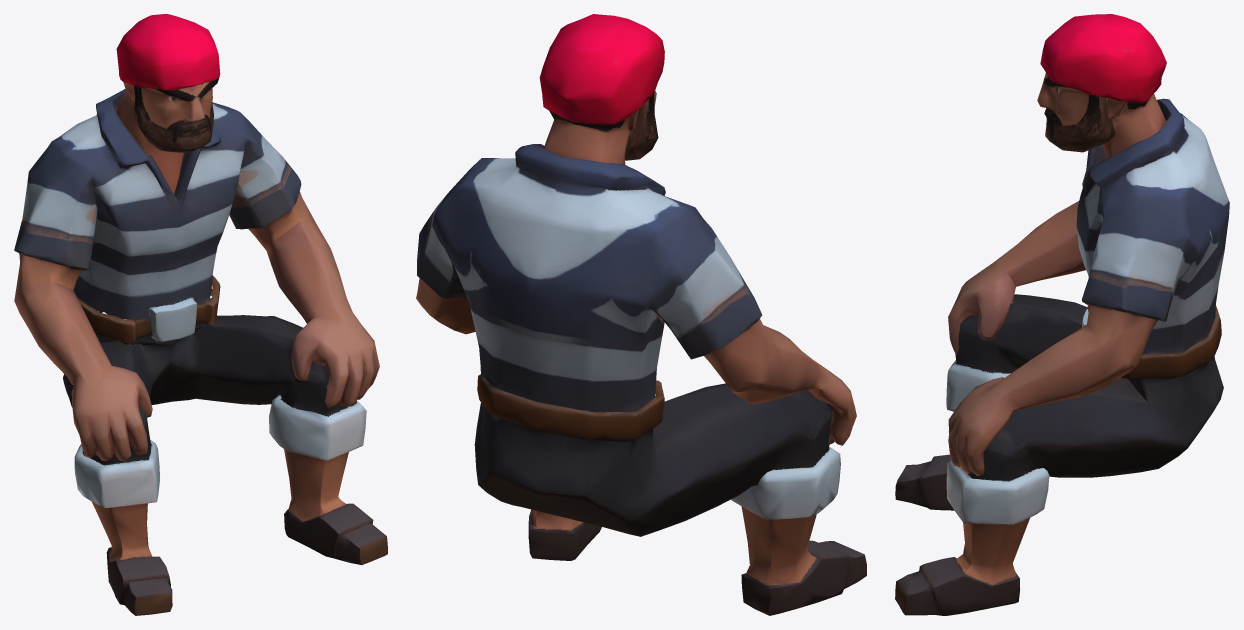
File: grumete_sentado.glb
3 renders of one model, left to right at view 1: azimuth 30°, elevation 25°; view 2: azimuth 150°, elevation 25°; view 3: azimuth 270°, elevation 25°, orthographic. The views are drawn at different scales.
Visible parts, largest first — view 1: world; view 2: world; view 3: world.
Boxes of the visible parts, x1,y1,x2,y2 form: world: (14, 14, 387, 615); world: (416, 14, 866, 615); world: (895, 14, 1229, 615).
Size of the model in its own units: 0.6309 by 1 by 0.5725.
Materials: 1 (1 with a texture image).
